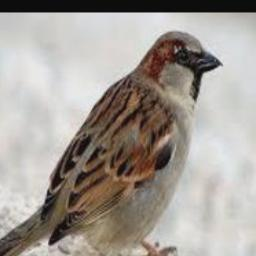Sparrow: (0, 32, 223, 256)
